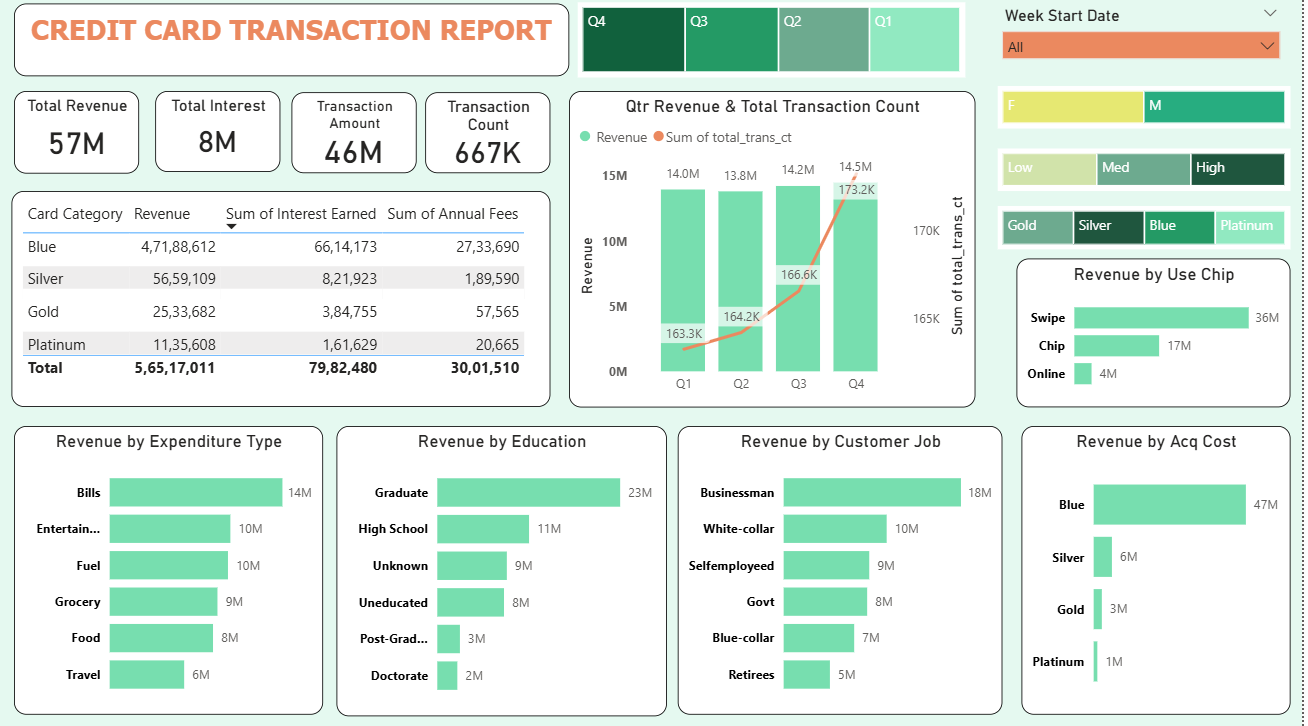

What the dashboard file says about the page in this screenshot:
{"tool":"powerbi","page":{"name":"CC Transaction","canvas":[1280,720],"ordinal":1},"visuals":[{"type":"textbox","box":[19.6,12.2,542.9,70.9],"z":0},{"type":"lineStackedColumnComboChart","title":" Qtr Revenue &  Total Transaction Count","fields":{"Category":["public cc_detail.qtr"],"Y":["Sum(public cc_detail.Revenue)"],"Y2":["Sum(public cc_detail.total_trans_ct)"]},"box":[562.5,97.8,397.4,309.4],"z":1000},{"type":"barChart","title":" Revenue by Expenditure Type","fields":{"Y":["Sum(public cc_detail.Revenue)"],"Category":["public cc_detail.exp_type"]},"box":[19.6,425.5,302,282.5],"z":2000},{"type":"barChart","title":" Revenue by Education","fields":{"Y":["Sum(public cc_detail.Revenue)"],"Category":["public cust_detail.education_level"]},"box":[335.1,425.5,322.8,283.7],"z":3000},{"type":"barChart","title":" Revenue by Customer Job","fields":{"Y":["Sum(public cc_detail.Revenue)"],"Category":["public cust_detail.customer_job"]},"box":[668.9,425.5,317.9,282.5],"z":4000},{"type":"barChart","title":" Revenue by Acq Cost","fields":{"Y":["Sum(public cc_detail.Revenue)"],"Category":["public cc_detail.card_category"]},"box":[1005.2,457.3,262.9,250.7],"z":5000},{"type":"barChart","title":" Revenue by Use Chip","fields":{"Y":["Sum(public cc_detail.Revenue)"],"Category":["public cc_detail.use_chip"]},"box":[1000.3,261.7,267.8,176.1],"z":6000},{"type":"tableEx","fields":{"Values":["public cc_detail.card_category","Sum(public cc_detail.Revenue)","Sum(public cc_detail.interest_earned)","Sum(public cc_detail.annual_fees)"]},"box":[17.1,195.7,527,211.6],"z":7000},{"type":"card","title":"Total Revenue","fields":{"Values":["Sum(public cc_detail.Revenue)"]},"box":[19.6,97.8,122.3,80.7],"z":8000},{"type":"card","title":"Transaction Amount","fields":{"Values":["Sum(public cc_detail.total_trans_amt)"]},"box":[291,99,122.3,79.5],"z":9000},{"type":"card","title":"Total Interest","fields":{"Values":["Sum(public cc_detail.interest_earned)"]},"box":[157.7,97.8,122.3,79],"z":10000},{"type":"card","title":"Transaction Count","fields":{"Values":["Sum(public cc_detail.total_trans_ct)"]},"box":[421.9,99,122.3,79.5],"z":11000},{"type":"slicer","fields":{"Values":["public cc_detail.week_start_date"]},"box":[975.8,9.8,292.3,69.7],"z":12000},{"type":"treemap","fields":{"Group":["public cc_detail.qtr"],"Values":["Avg(public cc_detail.client_num)"]},"box":[571.1,11,379.1,73.4],"z":13000},{"type":"treemap","fields":{"Values":["Avg(public cc_detail.client_num)"],"Group":["public cust_detail.gender"]},"box":[981.9,92.9,286.1,41.6],"z":14000},{"type":"treemap","fields":{"Values":["Avg(public cc_detail.client_num)"],"Group":["public cc_detail.card_category"]},"box":[981.9,210.3,286.1,42.8],"z":15000},{"type":"treemap","fields":{"Values":["Avg(public cc_detail.client_num)"],"Group":["public cust_detail.IncomeGroup"]},"box":[981.9,154.1,286.1,41.6],"z":16000}]}

Visuals, with their boxes in screenshot pixels (x1, y1, x2, y2), scaled from the page's 1280x720 canvas onto the 1308x726 screenshot:
textbox: detection(20, 12, 575, 84)
" Qtr Revenue &  Total Transaction Count" lineStackedColumnComboChart: detection(575, 99, 981, 411)
" Revenue by Expenditure Type" barChart: detection(20, 429, 329, 714)
" Revenue by Education" barChart: detection(342, 429, 672, 715)
" Revenue by Customer Job" barChart: detection(684, 429, 1008, 714)
" Revenue by Acq Cost" barChart: detection(1027, 461, 1296, 714)
" Revenue by Use Chip" barChart: detection(1022, 264, 1296, 441)
tableEx - public cc_detail.card_category x Sum(public cc_detail.Revenue): detection(17, 197, 556, 411)
"Total Revenue" card: detection(20, 99, 145, 180)
"Transaction Amount" card: detection(297, 100, 422, 180)
"Total Interest" card: detection(161, 99, 286, 178)
"Transaction Count" card: detection(431, 100, 556, 180)
slicer - public cc_detail.week_start_date: detection(997, 10, 1296, 80)
treemap - public cc_detail.qtr x Avg(public cc_detail.client_num): detection(584, 11, 971, 85)
treemap - Avg(public cc_detail.client_num) x public cust_detail.gender: detection(1003, 94, 1296, 136)
treemap - Avg(public cc_detail.client_num) x public cc_detail.card_category: detection(1003, 212, 1296, 255)
treemap - Avg(public cc_detail.client_num) x public cust_detail.IncomeGroup: detection(1003, 155, 1296, 197)
